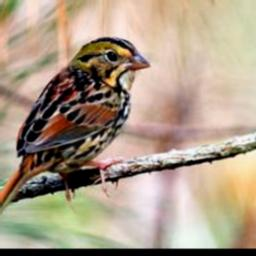Sparrow: (0, 34, 152, 231)
